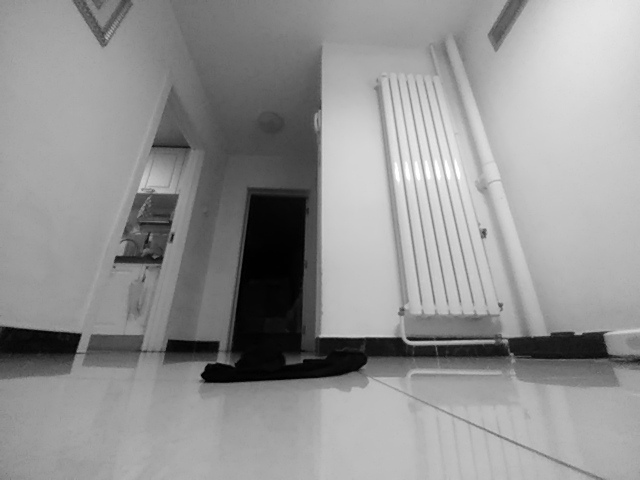others: (200, 348, 369, 389)
